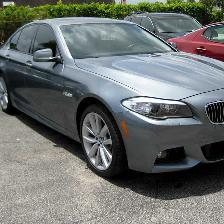scrach: (84, 88, 163, 188)
